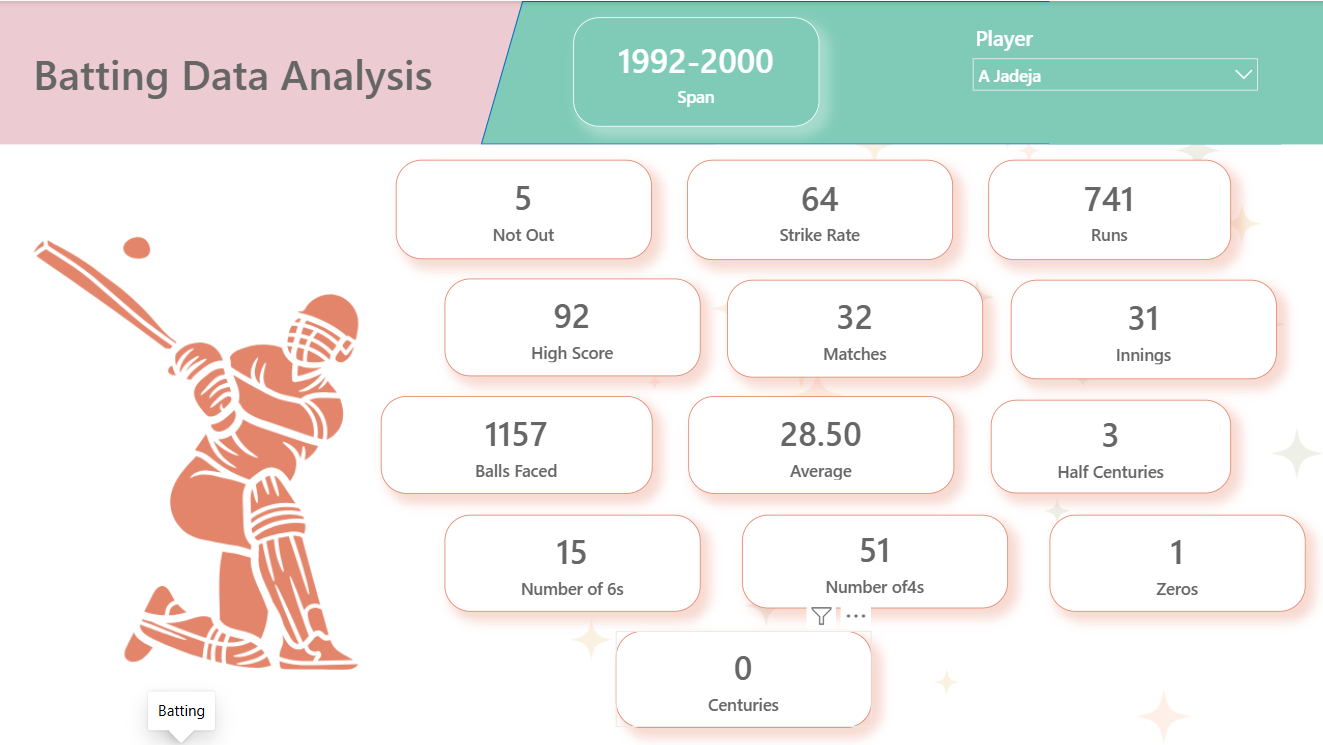

The dashboard page shown, as its layout file describes it:
{"tool":"powerbi","page":{"name":"Batting","canvas":[1280,720],"ordinal":0},"visuals":[{"type":"shape","box":[0,0,693,138.6],"z":0},{"type":"shape","box":[466.6,0,812.4,138.6],"z":1000},{"type":"shape","box":[1015.4,0,264.8,138.6],"z":2000},{"type":"slicer","fields":{"Values":["batting.Player"]},"box":[931.4,16.9,295.6,103.8],"z":3000},{"type":"card","fields":{"Values":["Min(batting.Span)"]},"box":[556.2,15.7,237.4,105.7],"z":4000},{"type":"card","fields":{"Values":["Sum(batting.SR)"]},"box":[665.8,153.2,257,96.5],"z":5000},{"type":"card","fields":{"Values":["Min(batting.RunsDescending)"]},"box":[956.7,153.2,234,96.5],"z":6000},{"type":"card","fields":{"Values":["Sum(batting.NO)"]},"box":[384.9,153.2,247,96.1],"z":7000},{"type":"card","fields":{"Values":["Sum(batting.Mat)"]},"box":[705,268.7,247.3,94.1],"z":8000},{"type":"card","fields":{"Values":["Min(batting.Inns)"]},"box":[978.4,269.6,256.6,96.1],"z":9000},{"type":"card","fields":{"Values":["Min(batting.HS)"]},"box":[431.9,268.2,247,94.7],"z":10000},{"type":"card","fields":{"Values":["Sum(batting.BF)"]},"box":[370.4,381.8,262.1,94.7],"z":11000},{"type":"card","fields":{"Values":["Sum(batting.Ave)"]},"box":[667.5,381.7,256.6,94.7],"z":12000},{"type":"card","fields":{"Values":["Sum(batting.6s)"]},"box":[432.2,495.4,247,93.3],"z":13000},{"type":"card","fields":{"Values":["Sum(batting.4s)"]},"box":[719.2,495.4,256.6,90.6],"z":14000},{"type":"card","fields":{"Values":["Sum(batting.50)"]},"box":[959.1,385.4,231.9,90.6],"z":15000},{"type":"card","fields":{"Values":["Sum(batting.100)"]},"box":[597.2,608,247,93.3],"z":16000},{"type":"card","fields":{"Values":["Sum(batting.0)"]},"box":[1015.8,495.8,247,93.3],"z":17000}]}

Visuals, with their boxes in screenshot pixels (x1, y1, x2, y2), scaled from the page's 1280x720 canvas onto the 1323x745 screenshot:
shape: <region>0, 0, 716, 143</region>
shape: <region>482, 0, 1322, 143</region>
shape: <region>1050, 0, 1322, 143</region>
slicer - batting.Player: <region>963, 17, 1268, 125</region>
card - Min(batting.Span): <region>575, 16, 820, 126</region>
card - Sum(batting.SR): <region>688, 159, 954, 258</region>
card - Min(batting.RunsDescending): <region>989, 159, 1231, 258</region>
card - Sum(batting.NO): <region>398, 159, 653, 258</region>
card - Sum(batting.Mat): <region>729, 278, 984, 375</region>
card - Min(batting.Inns): <region>1011, 279, 1276, 378</region>
card - Min(batting.HS): <region>446, 278, 702, 376</region>
card - Sum(batting.BF): <region>383, 395, 654, 493</region>
card - Sum(batting.Ave): <region>690, 395, 955, 493</region>
card - Sum(batting.6s): <region>447, 513, 702, 609</region>
card - Sum(batting.4s): <region>743, 513, 1009, 606</region>
card - Sum(batting.50): <region>991, 399, 1231, 493</region>
card - Sum(batting.100): <region>617, 629, 873, 726</region>
card - Sum(batting.0): <region>1050, 513, 1305, 610</region>
